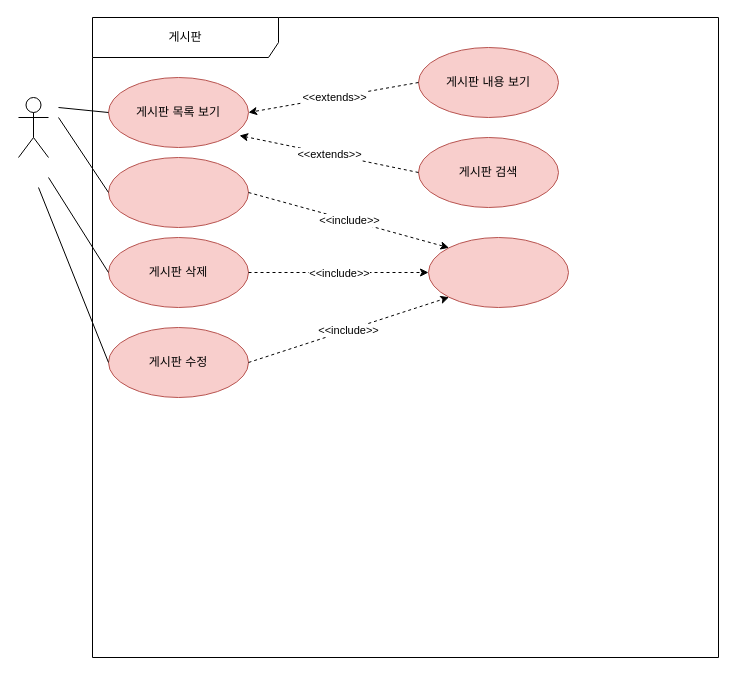
This 736x675 diagram has some shape labels left out. The centre of each missing label's shape, as x and y in pixels:
"글쓰기" belongs at [178,192].
"로그인" belongs at [498,272].
"사용자" belongs at [33,127].
